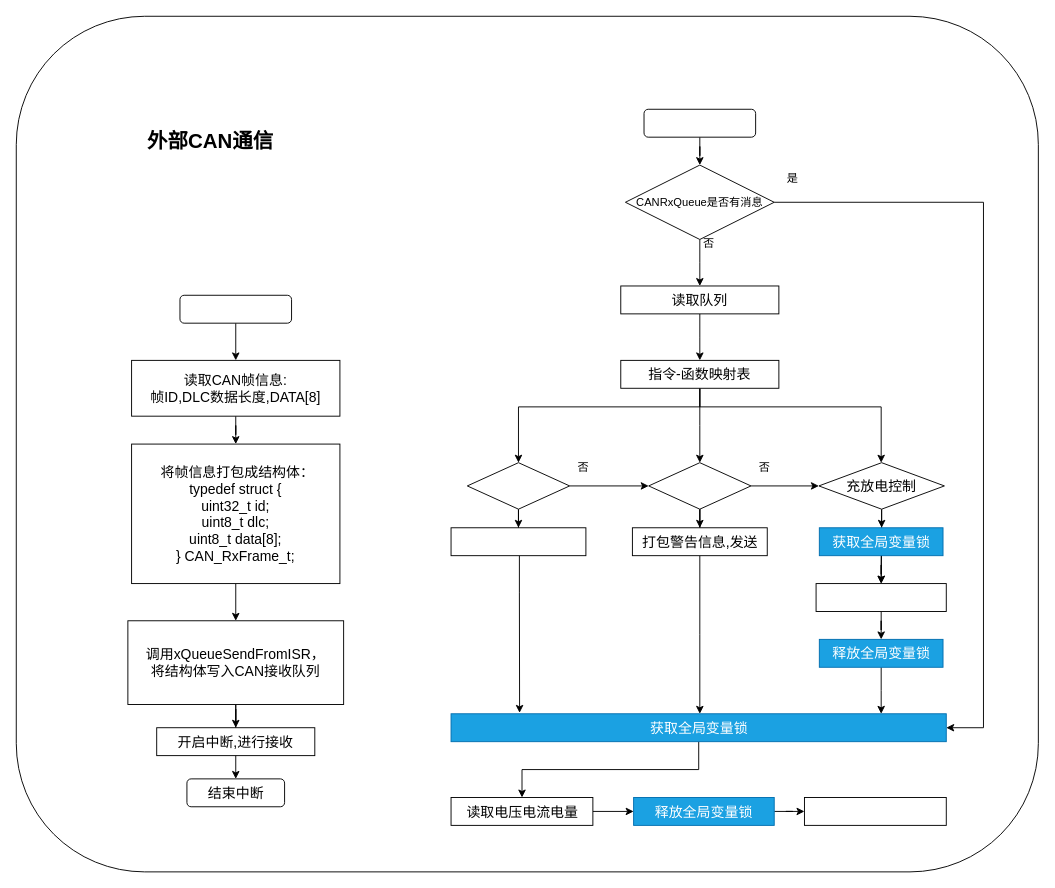
The diagram is 1055 pixels wide and 888 high, and some of its shapes have lost their labels. The shapes that lost their labels are listed below. From the top down, each one's centre as x and y in pixels, then its label:
At (699,122): "osDelay100ms".
At (235,308): "中断触发".
At (518,485): "故障事件".
At (699,485): "警告事件".
At (518,541): "打包故障信息,发送".
At (880,597): "修改充放电标志位".
At (875,811): "打包发送".
